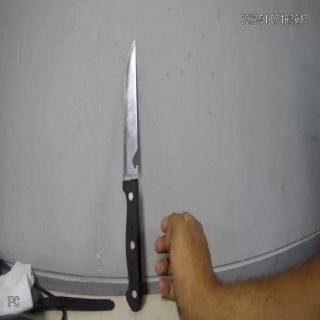knife: (120, 30, 149, 314)
